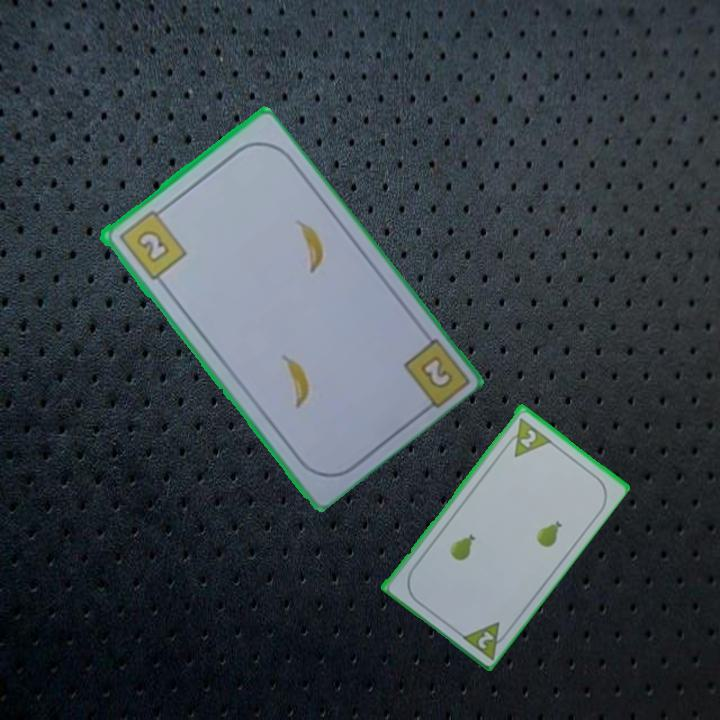2b: (114, 203, 189, 283), (415, 351, 456, 392)
2p: (457, 617, 513, 662), (516, 425, 539, 450)
